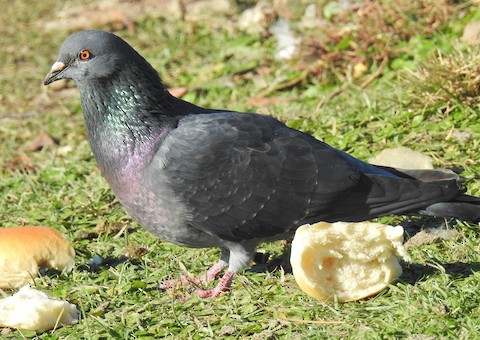pigeon: (41, 23, 473, 301)
